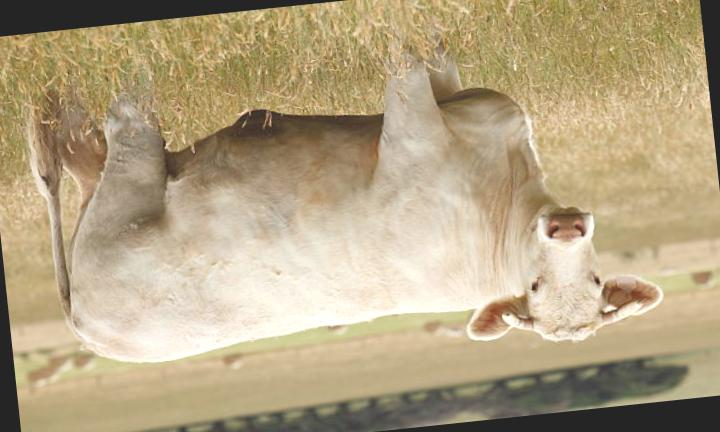Charolais: (29, 58, 662, 361)
